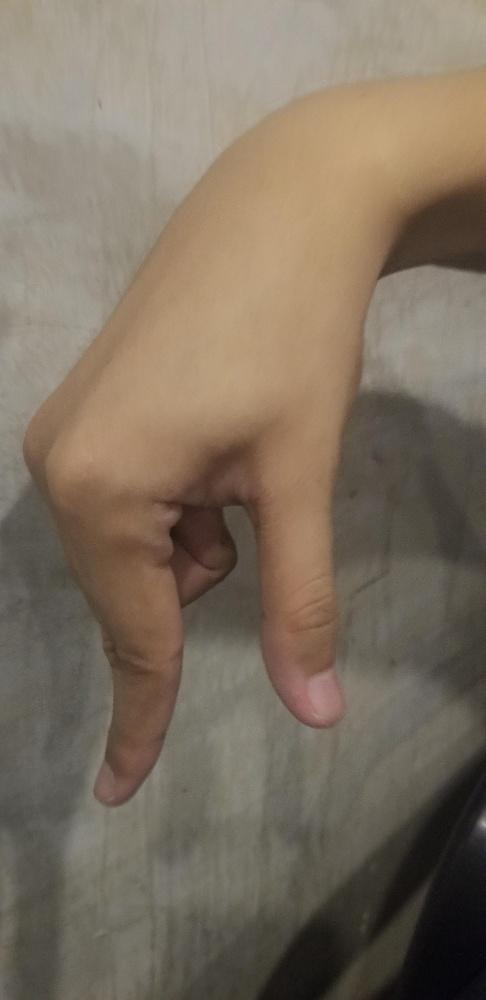q: (20, 164, 383, 807)
